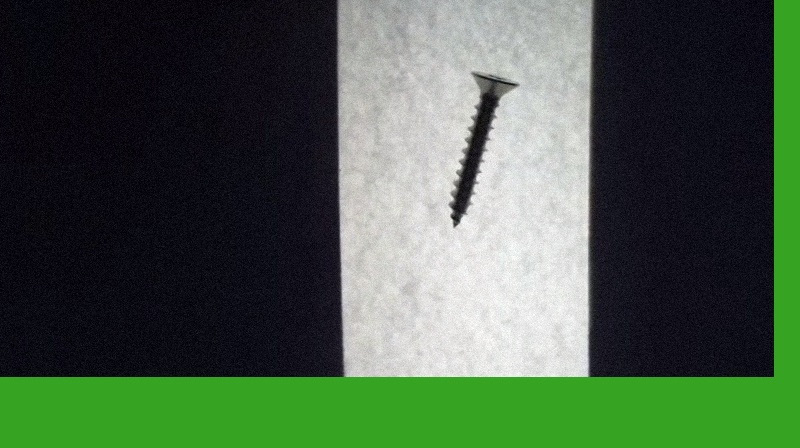S001: (445, 68, 522, 229)
